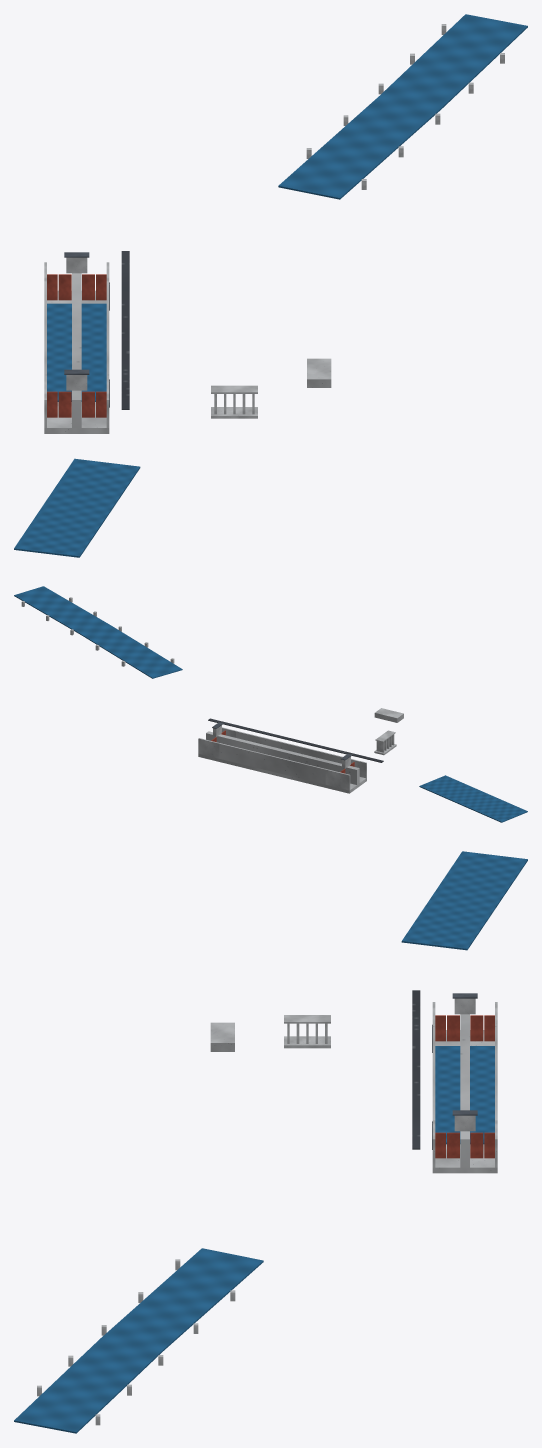
The model's file is qishi-z3-lock.glb.
3 renders of one model, top to bottom at view 1: azimuth 90°, elevation 25°; view 2: azimuth 150°, elevation 25°; view 3: azimuth 270°, elevation 25°, orthographic. The views are drawn at different scales.
Parts seen in each view (by area): view 1: QIS_WAY_water_dn_01, QIS_WAY_water_up_01, %s_LOCK_water_chamber_01, QIS_SITE_road_01, QIS_LOCK_middike_01, QIS_LOCK_slab_head_up_01, QIS_SITE_admin_01; view 2: QIS_WAY_water_dn_01, QIS_WAY_water_up_01, QIS_LOCK_wallL_chamber_01, QIS_LOCK_middike_01, QIS_LOCK_wallR_chamber_01, QIS_SITE_road_01, QIS_LOCK_wallL_head_up_01, QIS_LOCK_slab_chamber_01, QIS_LOCK_wallL_head_dn_01, QIS_SITE_admin_01; view 3: QIS_WAY_water_dn_01, QIS_WAY_water_up_01, %s_LOCK_water_chamber_01, QIS_SITE_road_01, QIS_LOCK_middike_01, QIS_LOCK_slab_head_dn_01, QIS_SITE_admin_01.
Part boxes in pixels (box(x1,y1,x2,y2)): QIS_WAY_water_dn_01: box(278, 14, 527, 199); QIS_WAY_water_up_01: box(14, 458, 140, 557); %s_LOCK_water_chamber_01: box(47, 303, 106, 401); QIS_SITE_road_01: box(121, 251, 129, 409); QIS_LOCK_middike_01: box(72, 273, 81, 427); QIS_LOCK_slab_head_up_01: box(44, 406, 109, 433); QIS_SITE_admin_01: box(307, 358, 331, 387); QIS_WAY_water_dn_01: box(14, 586, 182, 678); QIS_WAY_water_up_01: box(419, 775, 527, 822); QIS_LOCK_wallL_chamber_01: box(219, 743, 326, 784); QIS_LOCK_middike_01: box(206, 731, 359, 784); QIS_LOCK_wallR_chamber_01: box(236, 731, 342, 763); QIS_SITE_road_01: box(208, 718, 383, 762); QIS_LOCK_wallL_head_up_01: box(325, 769, 350, 790); QIS_LOCK_slab_chamber_01: box(219, 759, 325, 787); QIS_LOCK_wallL_head_dn_01: box(198, 738, 219, 758); QIS_SITE_admin_01: box(374, 708, 403, 722); QIS_WAY_water_dn_01: box(14, 1248, 263, 1433); QIS_WAY_water_up_01: box(401, 851, 527, 950); %s_LOCK_water_chamber_01: box(435, 1046, 494, 1144); QIS_SITE_road_01: box(412, 990, 420, 1149); QIS_LOCK_middike_01: box(460, 1014, 469, 1167); QIS_LOCK_slab_head_dn_01: box(432, 1148, 497, 1173); QIS_SITE_admin_01: box(210, 1022, 234, 1051).
Size of the model in its own units: 1634 by 69.9 by 632.
Materials: 5 (5 with a texture image).
